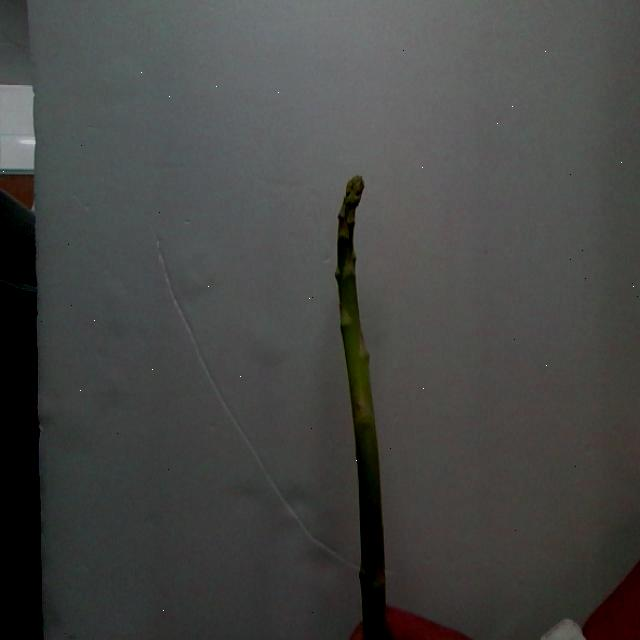aspargus: (337, 177, 389, 640)
